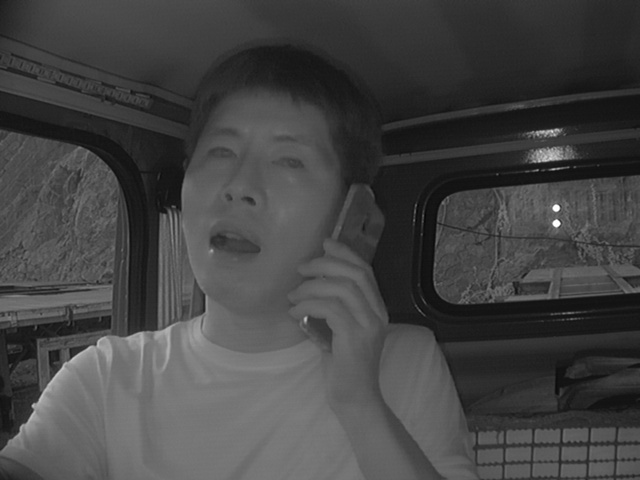hand: (284, 234, 398, 387)
